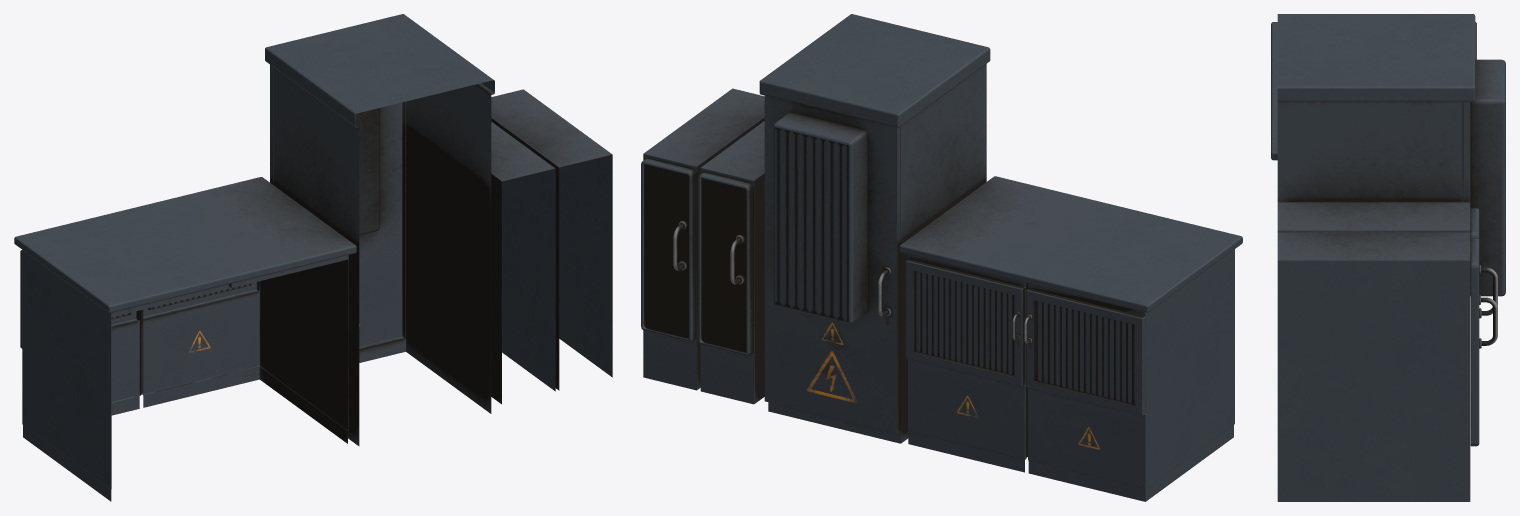
The model's file is electricbox.obj.
3 views of the same model, side by side, from view 1: azimuth 30°, elevation 25°; view 2: azimuth 150°, elevation 25°; view 3: azimuth 270°, elevation 25° (orthographic). The views are drawn at different scales.
Parts seen in each view (by area): view 1: Sweep_3; view 2: Sweep_3; view 3: Sweep_3.
Boxes of the visible parts, <box> form: Sweep_3: <box>14,14,612,501</box>; Sweep_3: <box>641,14,1242,501</box>; Sweep_3: <box>1271,14,1505,501</box>.
Size of the model in its own units: 1.94 by 1.22 by 0.7188.
1 material, 1 textured.
